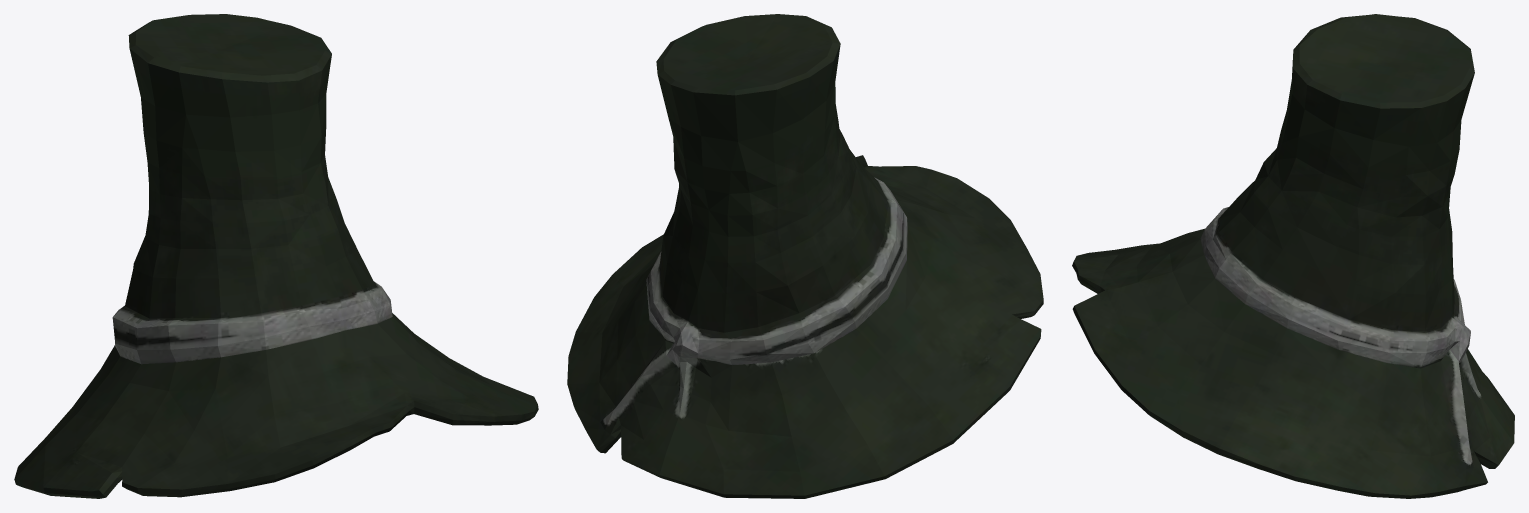
Rendered from KAPELUSZ_WIEJSKI.glb.
3 renders of one model, left to right at view 1: azimuth 30°, elevation 25°; view 2: azimuth 150°, elevation 25°; view 3: azimuth 270°, elevation 25°, orthographic. The views are drawn at different scales.
Parts seen in each view (by area): view 1: KAPELUSZ_WIEJSKI; view 2: KAPELUSZ_WIEJSKI; view 3: KAPELUSZ_WIEJSKI.
Boxes of the visible parts, <box> form: KAPELUSZ_WIEJSKI: <box>14,14,538,498</box>; KAPELUSZ_WIEJSKI: <box>567,14,1043,498</box>; KAPELUSZ_WIEJSKI: <box>1072,14,1514,498</box>.
Size of the model in its own units: 0.4106 by 0.3777 by 0.3861.
Materials: 1 (1 with a texture image).
